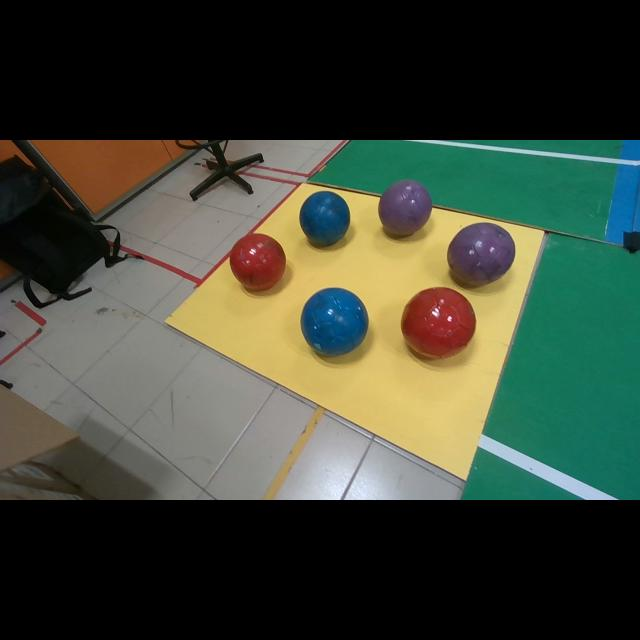B: (301, 288, 369, 355), (300, 191, 350, 246)
P: (448, 222, 515, 286), (379, 180, 432, 234)
R: (401, 288, 476, 359), (230, 234, 286, 291)
